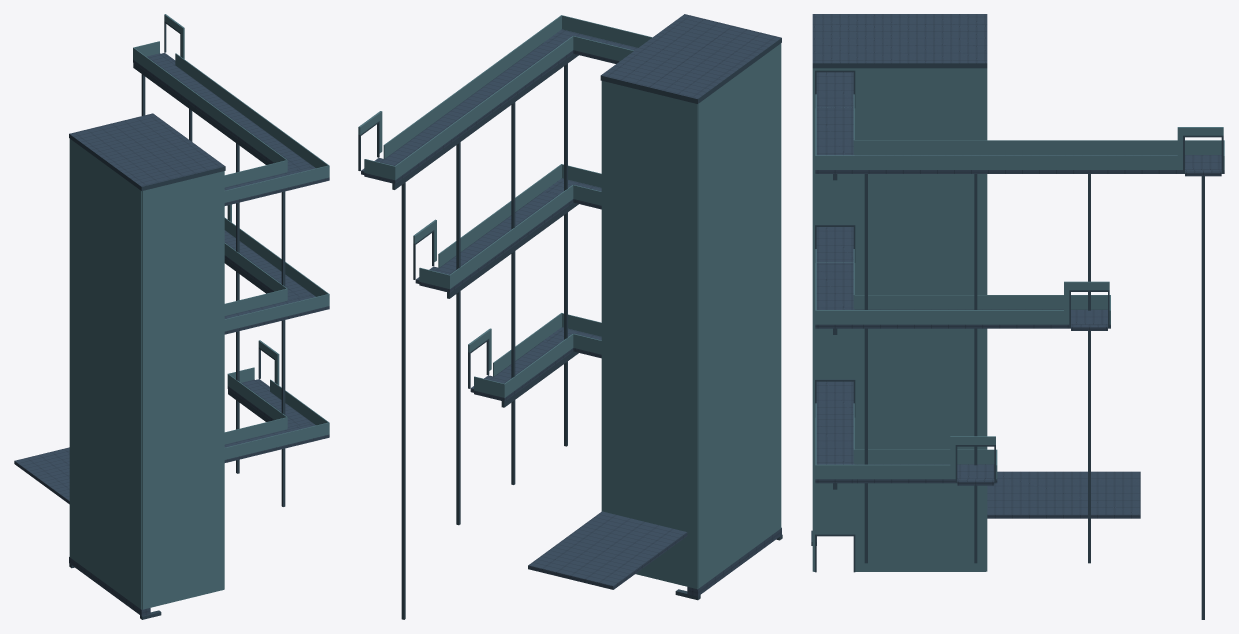
File: maintenance-access-plant-chambers.glb
3 views of the same model, side by side, from view 1: azimuth 30°, elevation 25°; view 2: azimuth 150°, elevation 25°; view 3: azimuth 270°, elevation 25° (orthographic). The views are drawn at different scales.
Parts seen in each view (by area): view 1: maintenance-access-plant-chambers; view 2: maintenance-access-plant-chambers; view 3: maintenance-access-plant-chambers.
Part boxes in pixels (x1=…): maintenance-access-plant-chambers: x1=14, y1=14, x2=329, y2=619; maintenance-access-plant-chambers: x1=358, y1=14, x2=782, y2=619; maintenance-access-plant-chambers: x1=811, y1=14, x2=1224, y2=619.
Size of the model in its own units: 19.03 by 40.44 by 29.07.
Materials: 4 (1 with a texture image).
